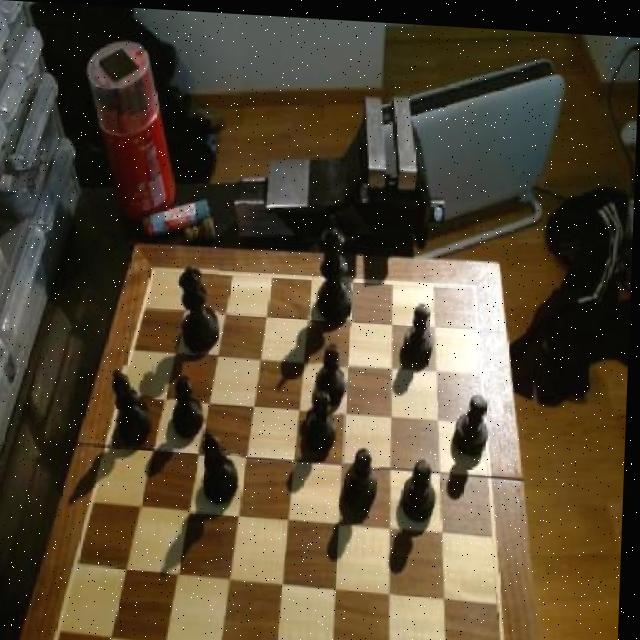bishop: (110, 363, 160, 449), (199, 422, 246, 509)
black-bishop: (312, 210, 358, 325)
black-knight: (344, 440, 384, 510), (404, 452, 442, 523), (454, 388, 493, 457), (172, 375, 211, 439), (402, 298, 440, 362), (309, 383, 344, 450), (316, 337, 352, 401)
black-pawn: (176, 262, 223, 356)
